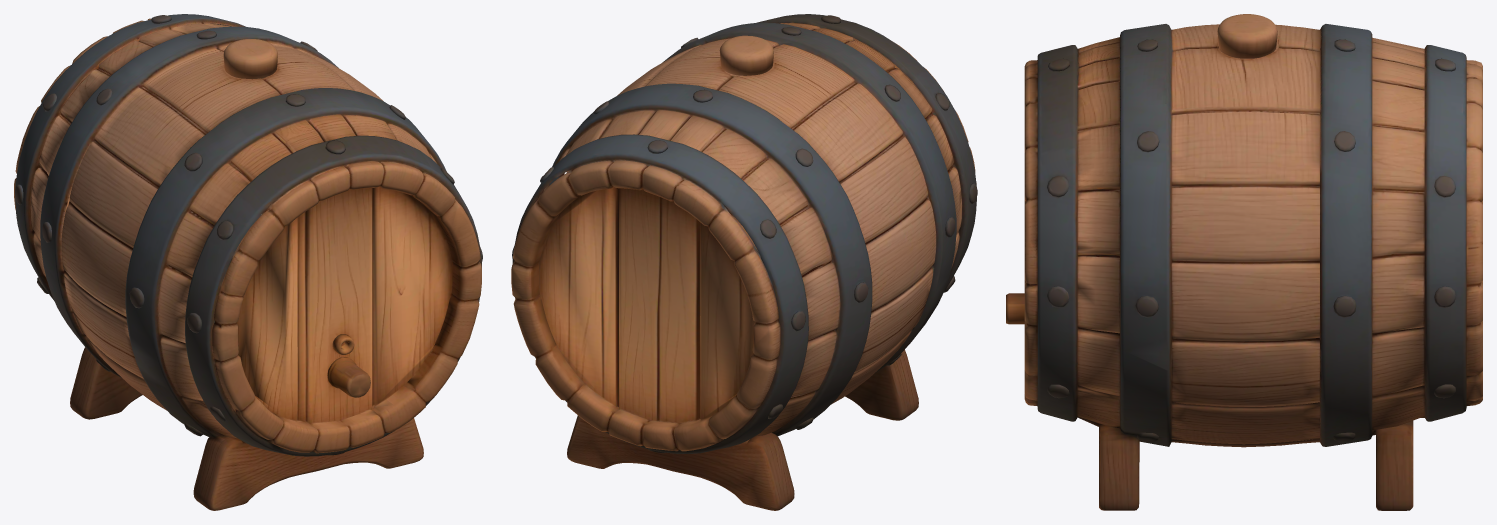
The model's file is Outdoor__a_wooden_barrel_f9278da9_v4.cluster.glb.
3 views of the same model, side by side, from view 1: azimuth 30°, elevation 25°; view 2: azimuth 150°, elevation 25°; view 3: azimuth 270°, elevation 25° (orthographic). The views are drawn at different scales.
Parts seen in each view (by area): view 1: material; view 2: material; view 3: material.
Part boxes in pixels (x1,y1,x2,y2): material: (14, 14, 482, 510); material: (511, 14, 977, 510); material: (1006, 14, 1482, 510).
Size of the model in its own units: 1.65 by 1.9 by 1.9.
1 material, 1 textured.
